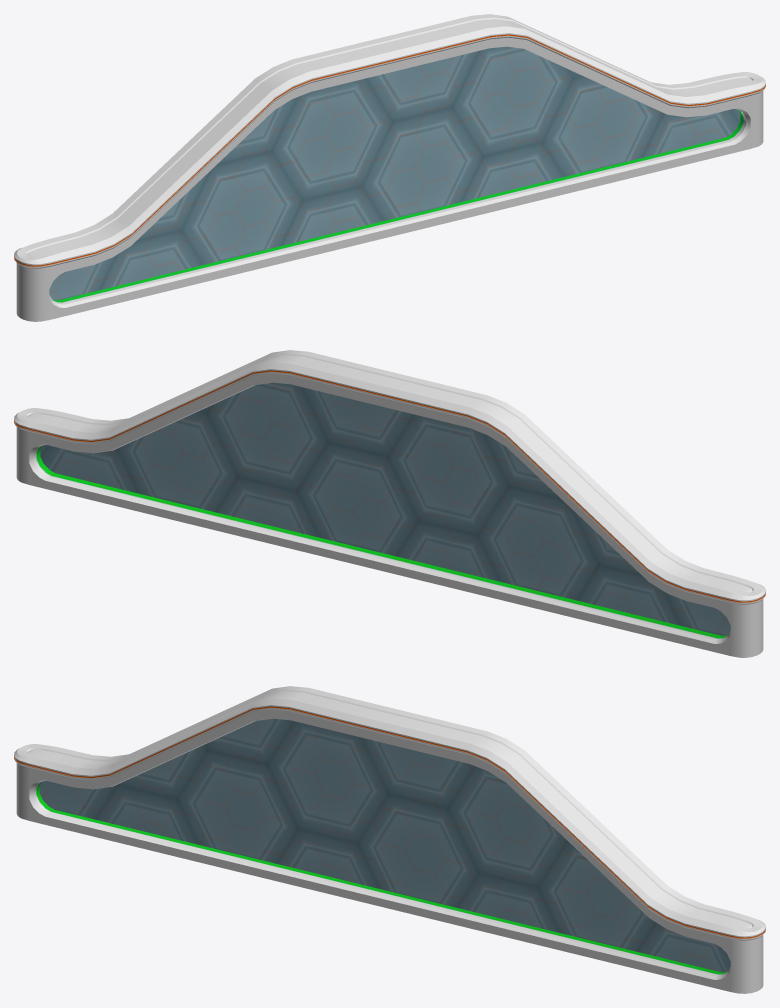
Rendered from sm_wall_midraise_screen_fixed.fbx.
The picture shows the model from 3 angles, top to bottom: view 1: azimuth 30°, elevation 25°; view 2: azimuth 150°, elevation 25°; view 3: azimuth 330°, elevation 25°; orthographic projection.
Visible parts, largest first — view 1: MidRaiseScreen_low; view 2: MidRaiseScreen_low; view 3: MidRaiseScreen_low.
Boxes of the visible parts, x1,y1,x2,y2 form: MidRaiseScreen_low: (14, 14, 765, 321); MidRaiseScreen_low: (14, 350, 765, 657); MidRaiseScreen_low: (14, 686, 765, 993).
Size of the model in its own units: 1166 by 274 by 60.64.
